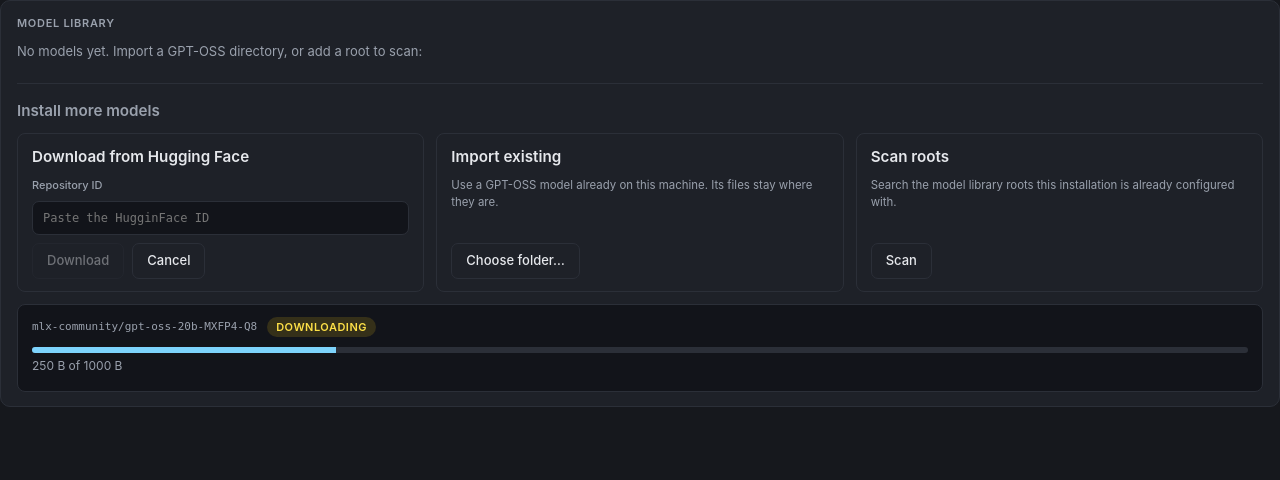
Scenario: cancelling a download › shows CANCELLING and disables the button on the first click
The image size is (1280, 480).
Click the button "Cancel" at (169, 261), box left=132, top=243, right=206, bottom=279
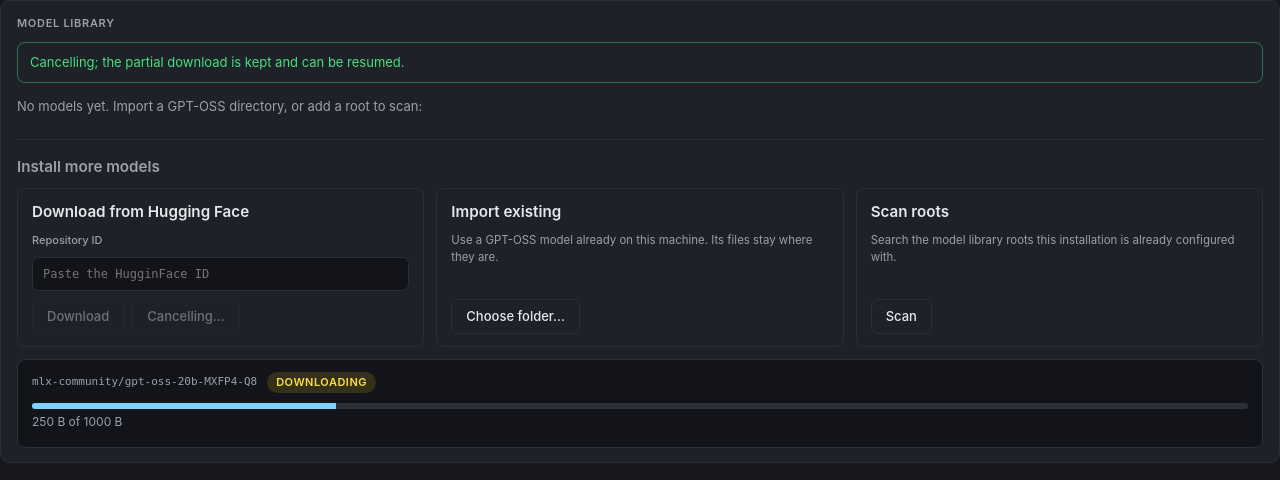
expect the button "Cancelling…" is disabled: met, box left=132, top=299, right=240, bottom=334
